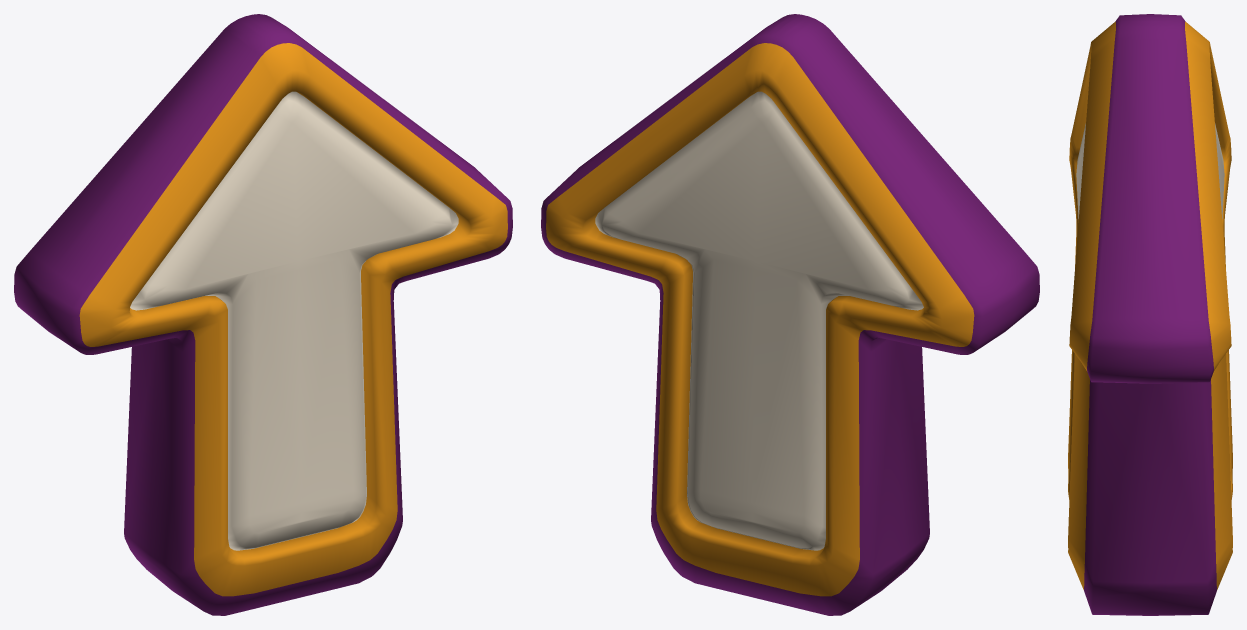
Rendered from arrow.glb.
3 renders of one model, left to right at view 1: azimuth 30°, elevation 25°; view 2: azimuth 150°, elevation 25°; view 3: azimuth 270°, elevation 25°, orthographic.
Visible parts, largest first — view 1: arrow_flat_v3; view 2: arrow_flat_v3; view 3: arrow_flat_v3.
Part boxes in pixels (x1,y1,x2,y2): arrow_flat_v3: (14, 14, 512, 615); arrow_flat_v3: (541, 14, 1039, 615); arrow_flat_v3: (1068, 14, 1232, 615).
Size of the model in its own units: 0.8421 by 0.9892 by 0.2629.
